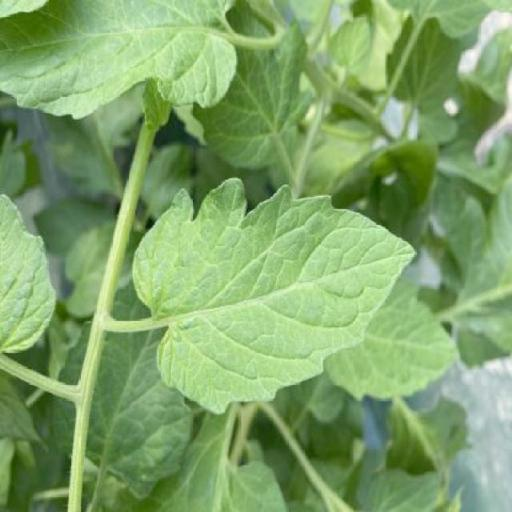Healthy: (132, 178, 416, 414)
